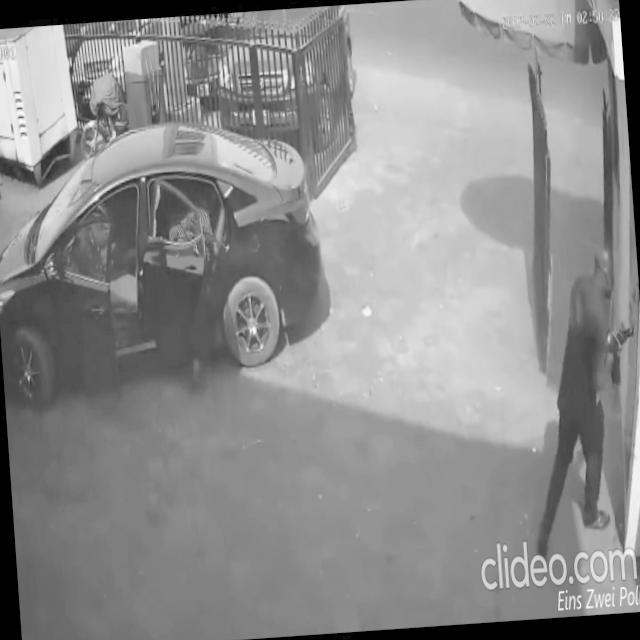gun: (187, 218, 232, 268), (606, 321, 639, 386)
person with a gun: (516, 238, 640, 571), (164, 180, 240, 390)
